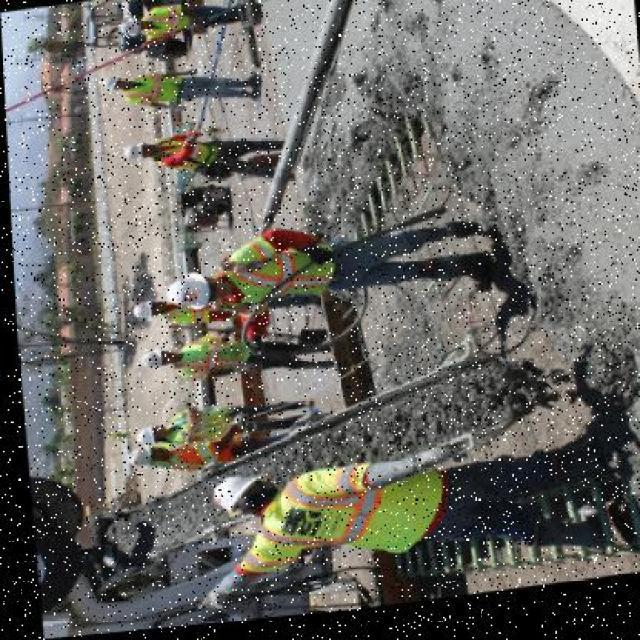helmet: (198, 471, 270, 529), (160, 269, 211, 319), (114, 445, 156, 475), (128, 423, 158, 451), (123, 298, 153, 326), (117, 140, 147, 168), (115, 15, 145, 43), (137, 348, 164, 376), (95, 74, 123, 99)
vest: (252, 456, 448, 583), (218, 237, 344, 328), (170, 333, 261, 386), (149, 129, 227, 181), (159, 405, 233, 447), (114, 76, 188, 117), (137, 5, 205, 45), (157, 300, 210, 327)
